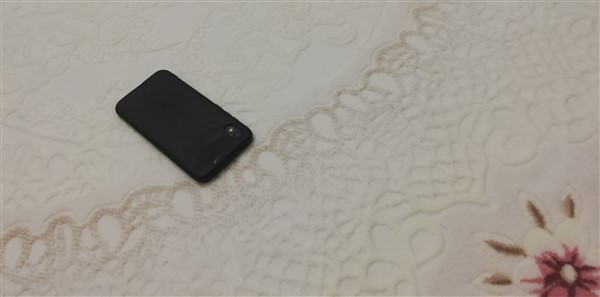telefon: (110, 67, 256, 187)
